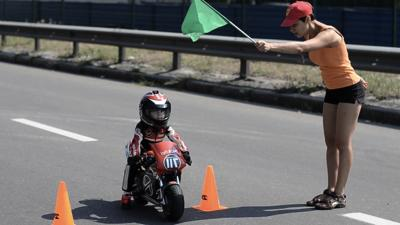With Helmet: (137, 89, 174, 129)
